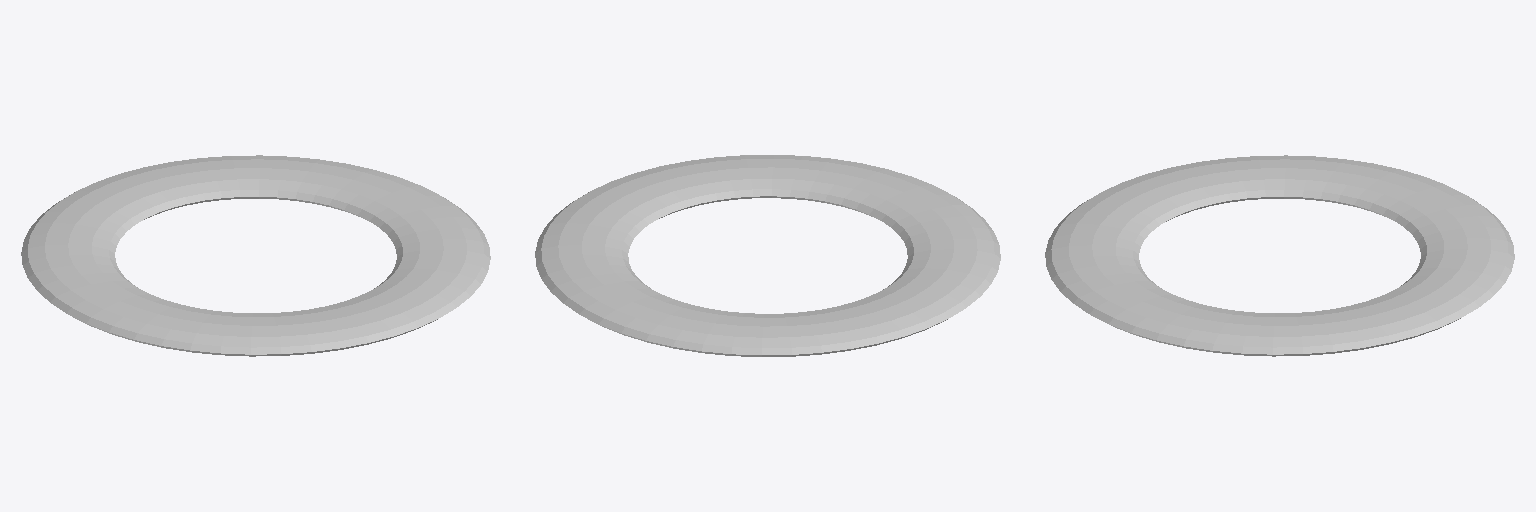
Rendered from anillo.obj.
The picture shows the model from 3 angles: view 1: azimuth 30°, elevation 25°; view 2: azimuth 150°, elevation 25°; view 3: azimuth 270°, elevation 25°; orthographic projection.
Parts seen in each view (by area): view 1: Torus.001; view 2: Torus.001; view 3: Torus.001.
Boxes of the visible parts, box(x1,y1,x2,y2) form: Torus.001: box(21, 155, 490, 356); Torus.001: box(535, 155, 1000, 356); Torus.001: box(1045, 155, 1514, 356).
Bounding box in the file's own units: 14.27 × 0.606 × 14.35.